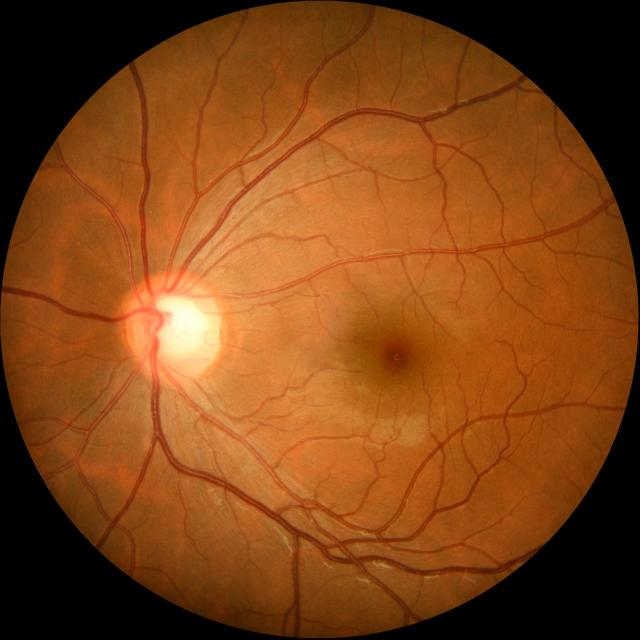OC: (144, 293, 207, 363)
OD: (122, 271, 220, 382)
